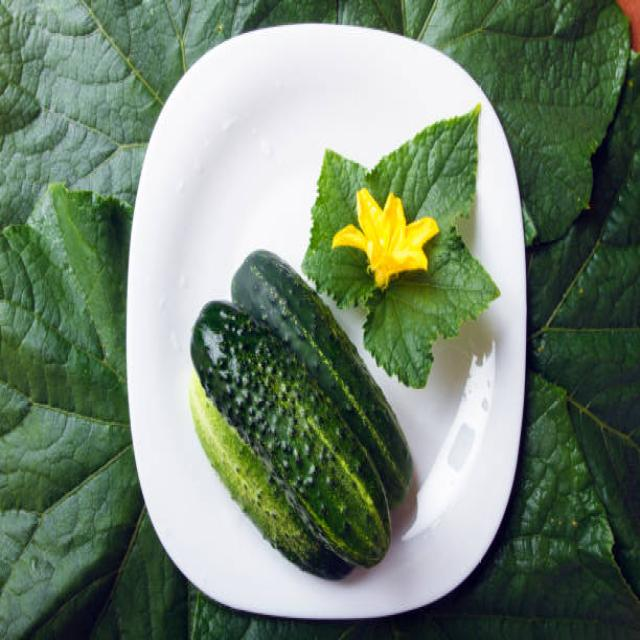cucumber: (187, 246, 417, 575)
